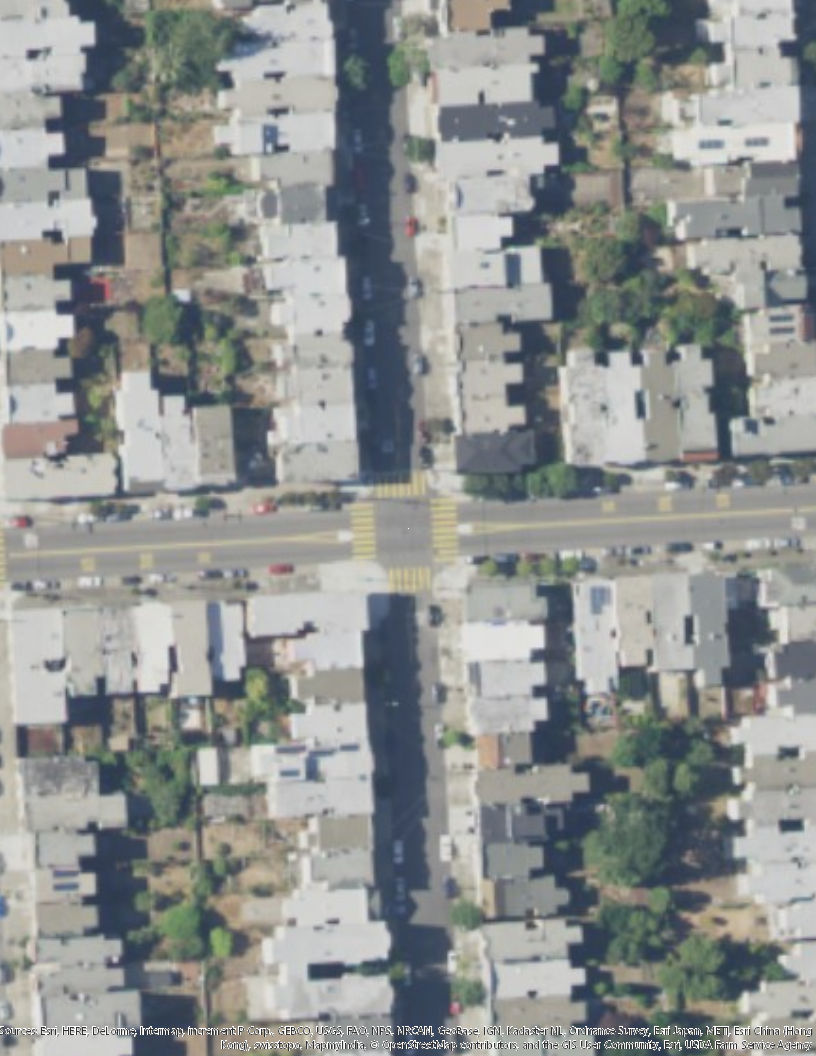zebracross: (427, 499, 460, 563), (349, 501, 378, 564), (374, 472, 428, 502), (389, 563, 434, 591)
